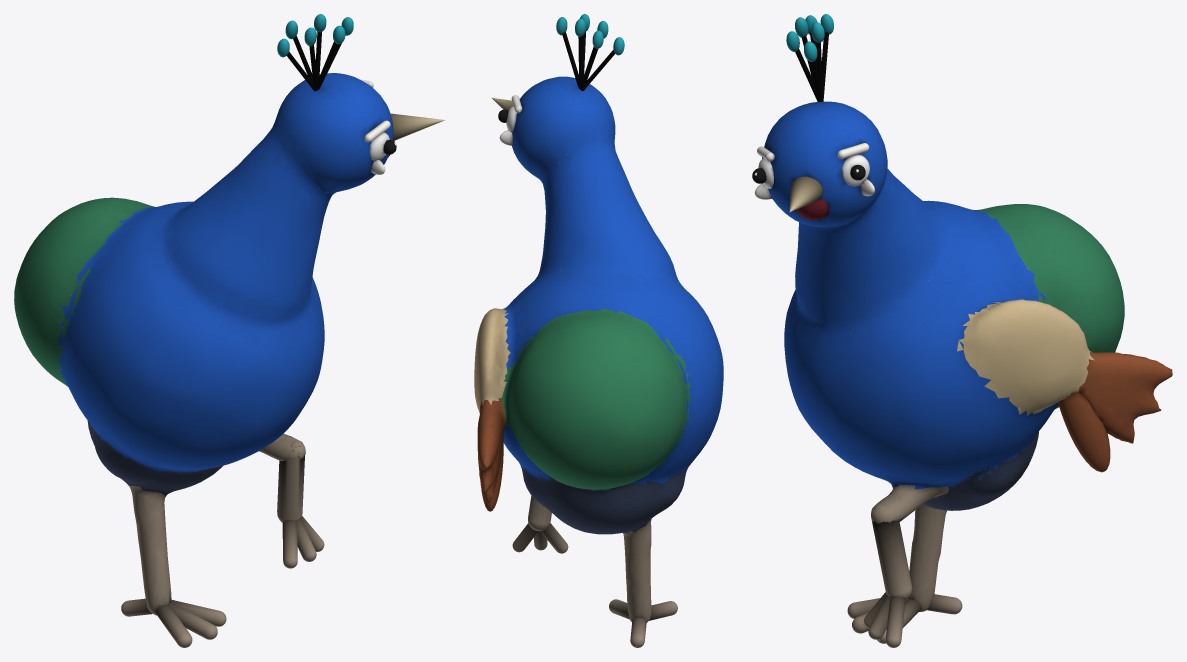
The model's file is jag-har-missat-bussen.glb.
The picture shows the model from 3 angles, left to right: view 1: azimuth 30°, elevation 25°; view 2: azimuth 150°, elevation 25°; view 3: azimuth 270°, elevation 25°; orthographic projection. The views are drawn at different scales.
Visible parts, largest first — view 1: pavao__r0, pavao__r30, pavao__r15, pavao__r1, pavao__r3, pavao__r31; view 2: pavao__r0, pavao__r30, pavao__r23, pavao__r31, pavao__r2, pavao__r1, pavao__r33; view 3: pavao__r0, pavao__r2, pavao__r30, pavao__r15, pavao__r33.
Part boxes in pixels (x1,y1,x2,y2): pavao__r0: (14, 73, 393, 615); pavao__r30: (277, 439, 304, 522); pavao__r15: (390, 113, 445, 140); pavao__r1: (155, 604, 192, 647); pavao__r3: (167, 602, 217, 639); pavao__r31: (282, 521, 297, 568); pavao__r0: (474, 76, 723, 622); pavao__r30: (528, 495, 551, 531); pavao__r23: (630, 618, 646, 647); pavao__r31: (540, 523, 568, 553); pavao__r2: (480, 435, 503, 511); pavao__r1: (649, 601, 677, 620); pavao__r33: (512, 523, 537, 552); pavao__r0: (762, 101, 1172, 611); pavao__r2: (1058, 392, 1110, 472); pavao__r30: (871, 502, 912, 599); pavao__r15: (789, 176, 822, 211); pavao__r33: (885, 597, 905, 647).
Bounding box in the file's own units: 1.06 × 2.03 × 1.18.
